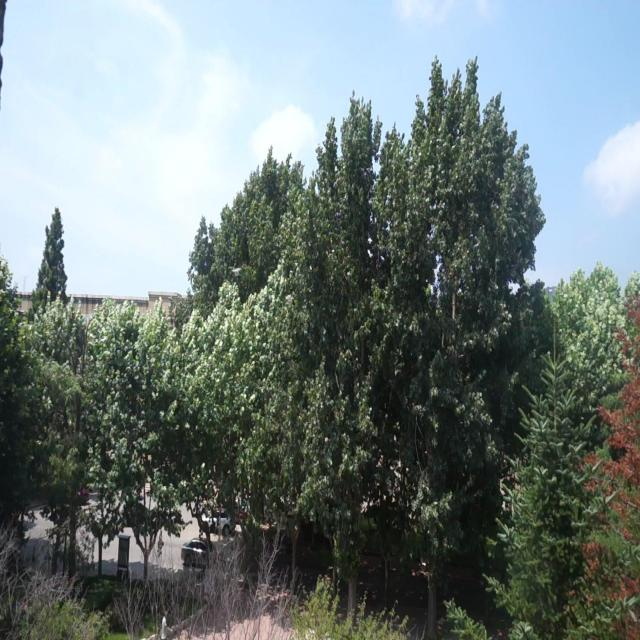UAV: (232, 268, 241, 277)
